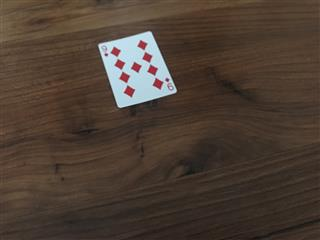NineOfDiamonds: (96, 29, 178, 108)
